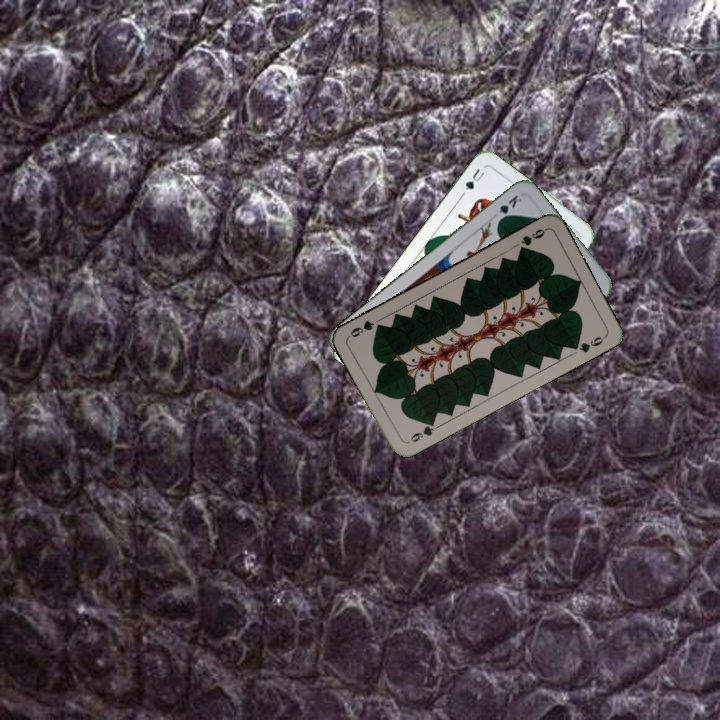G9: (515, 224, 549, 255), (406, 416, 438, 445)
GK: (493, 191, 524, 225)
GU: (461, 164, 487, 193)
